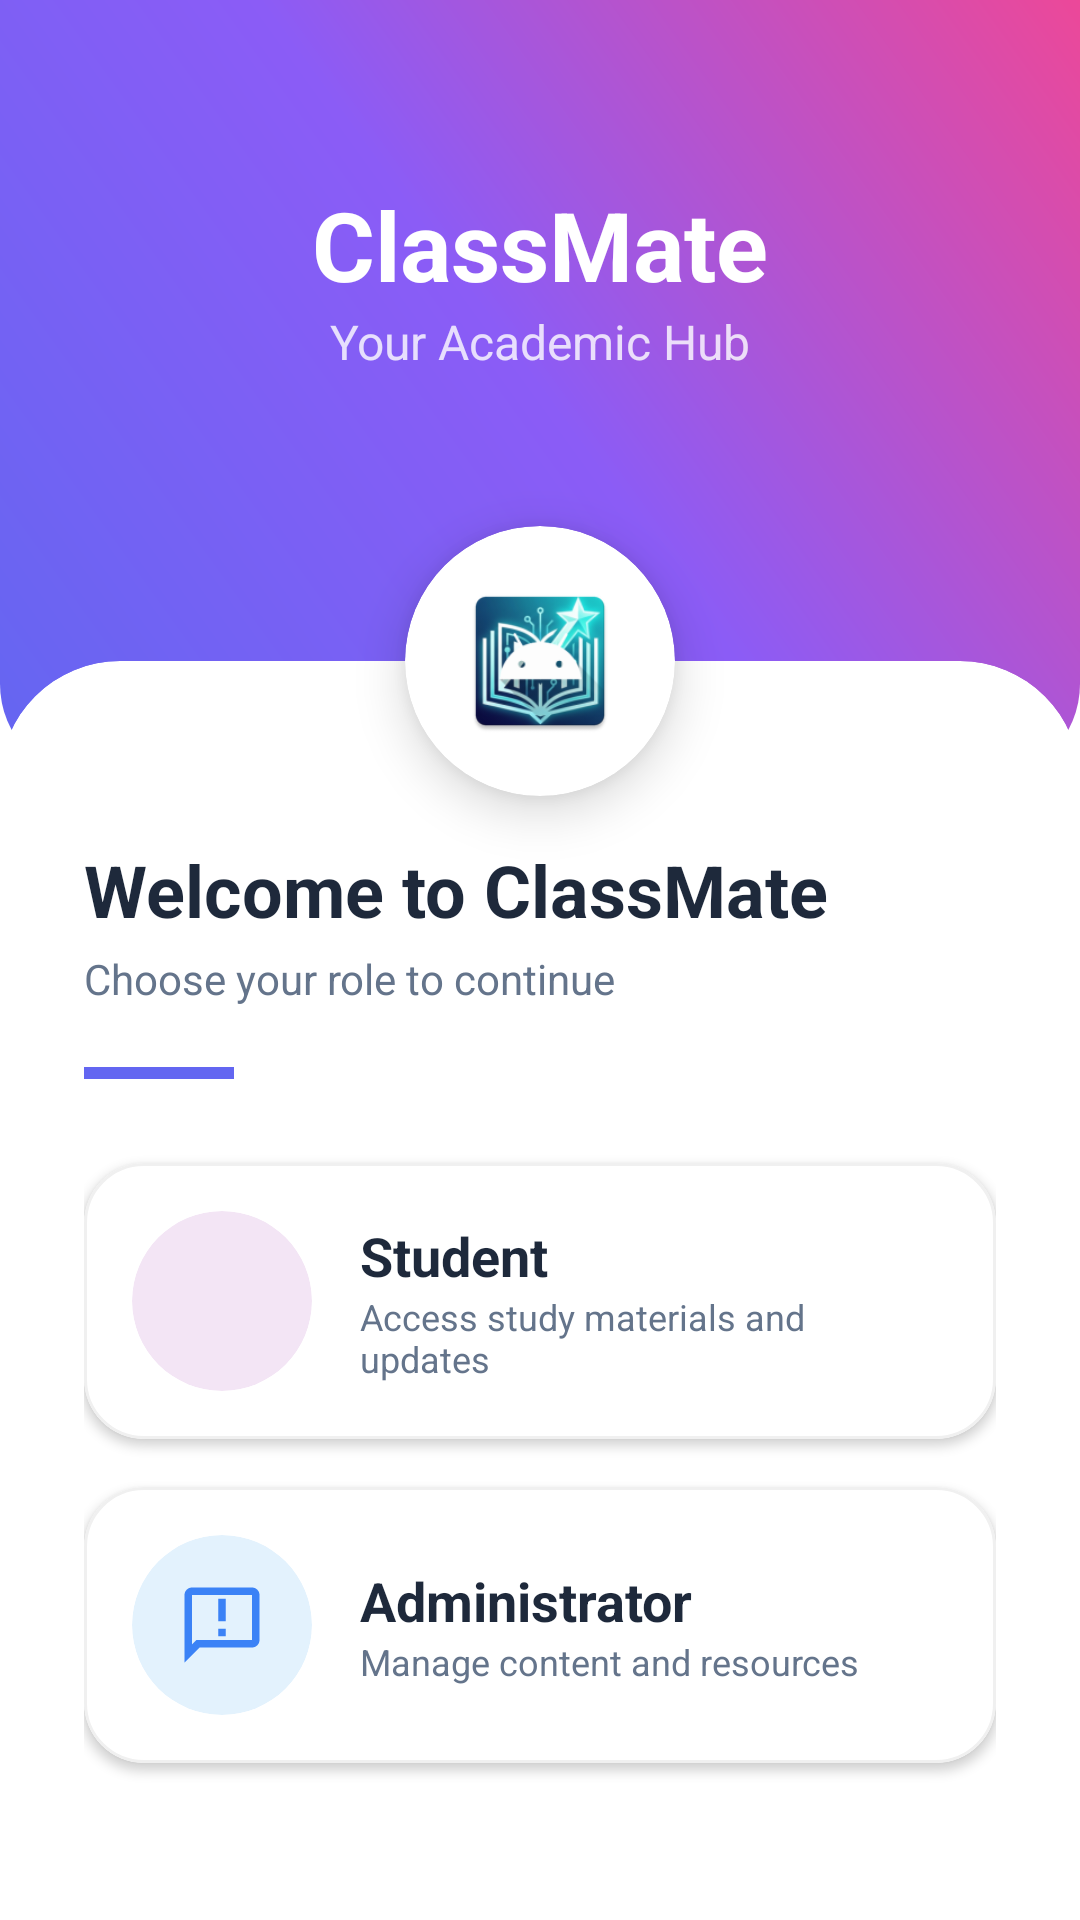

Point at icon controls on the screen. Image size 1080px x 1920px, points as (x,y).
announcement: (222,1625)
